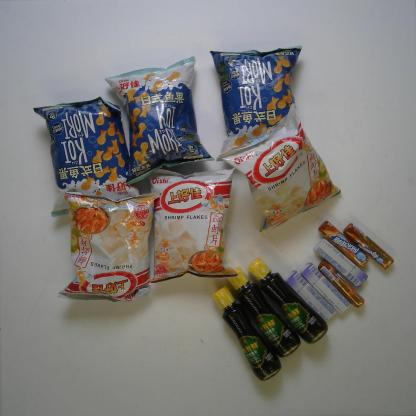Candy: (298, 260, 354, 316), (282, 269, 338, 324), (312, 236, 370, 289), (316, 219, 370, 269), (342, 222, 396, 271), (316, 258, 366, 309)
Puffed Food: (218, 99, 346, 235), (101, 52, 218, 188), (29, 92, 145, 222), (53, 188, 164, 305), (206, 43, 307, 166), (143, 164, 242, 289)
Seasoner: (244, 255, 330, 348), (224, 264, 304, 360), (210, 282, 284, 384)
